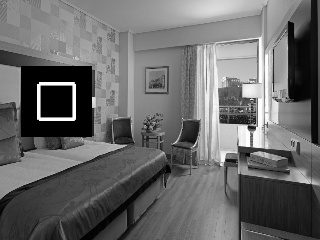square: (21, 66, 93, 137)
